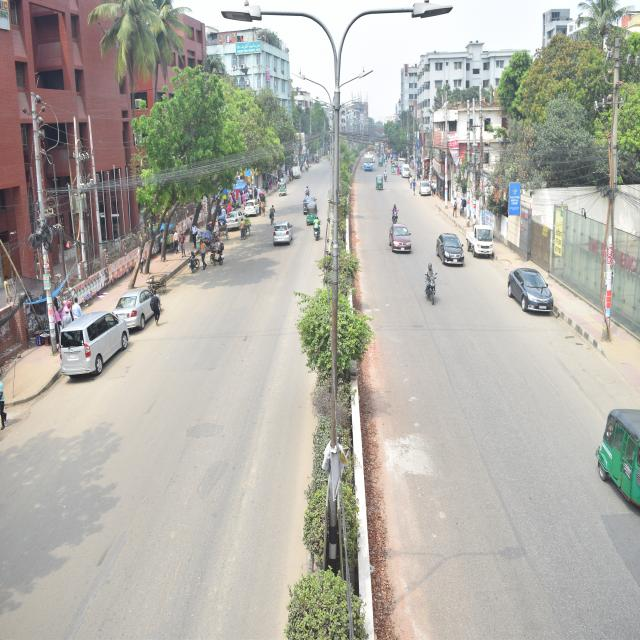car: (51, 311, 132, 383), (506, 260, 557, 314), (112, 284, 164, 330), (433, 228, 467, 269), (388, 223, 416, 253), (241, 192, 267, 220), (272, 221, 294, 247), (224, 209, 247, 228), (417, 179, 433, 202)
motorbike: (423, 266, 441, 307), (204, 245, 228, 266), (312, 210, 324, 248), (187, 250, 200, 276), (388, 203, 401, 227)
pickup-van: (462, 222, 497, 260)
